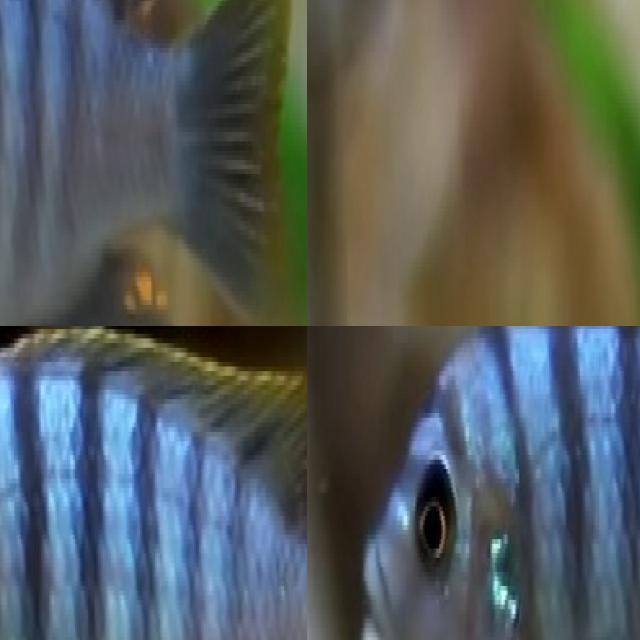fish: (0, 0, 307, 326), (0, 326, 307, 640), (345, 326, 640, 640)
